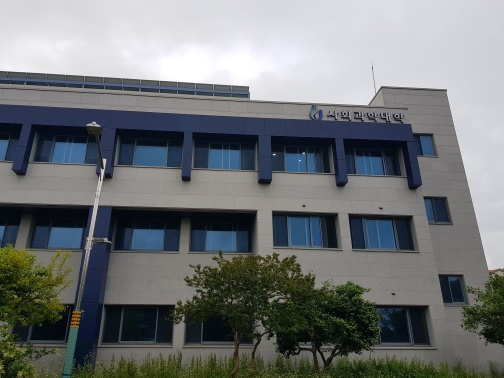College of Social Sciences: (14, 46, 503, 366), (96, 89, 429, 198), (304, 97, 407, 127)
